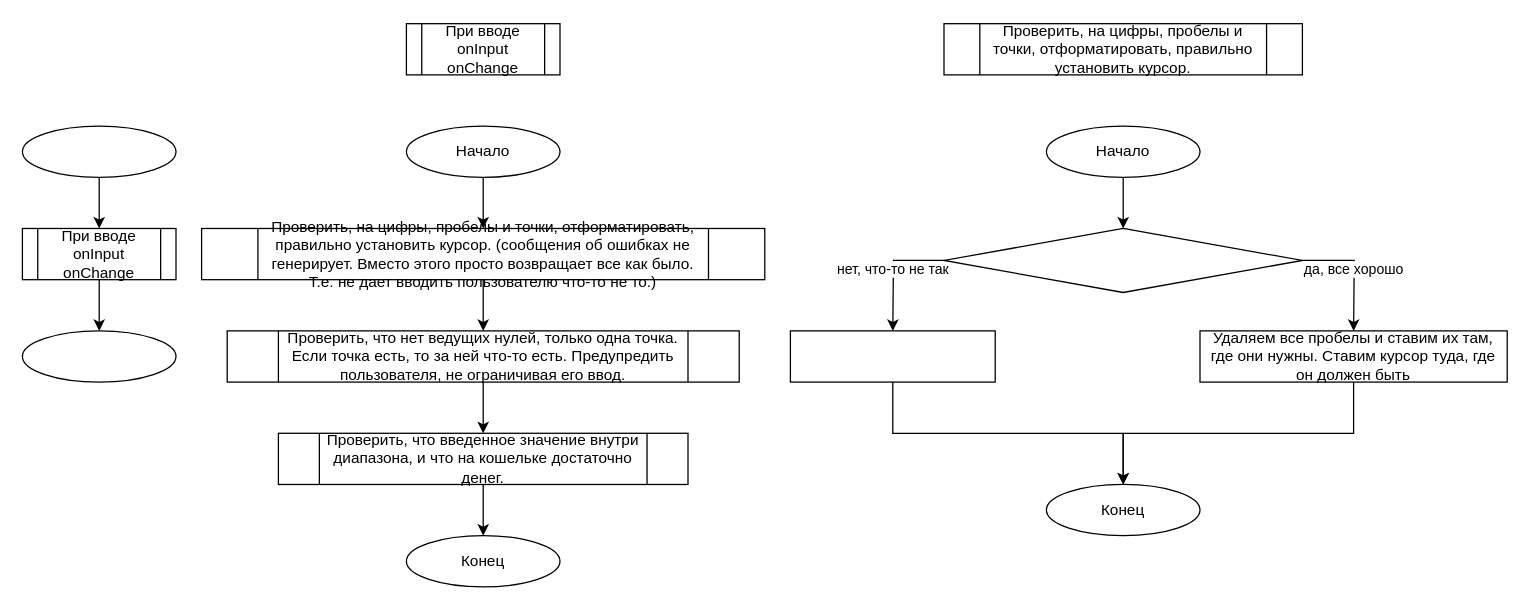
This 1530x609 diagram has some shape labels left out. Here are the shapes that lost their labels. From the top down, the box of each, then its label:
(21, 125, 176, 177): Пустая строка
(943, 227, 1302, 292): Регуляркой проверяем, что выражение состоит из цифр, пробелов и точек
(21, 330, 176, 382): Значение input и вывод ошибок
(789, 330, 995, 382): Возвращаем значение input до ввода. Ставим курсор туда, где он был до этого
